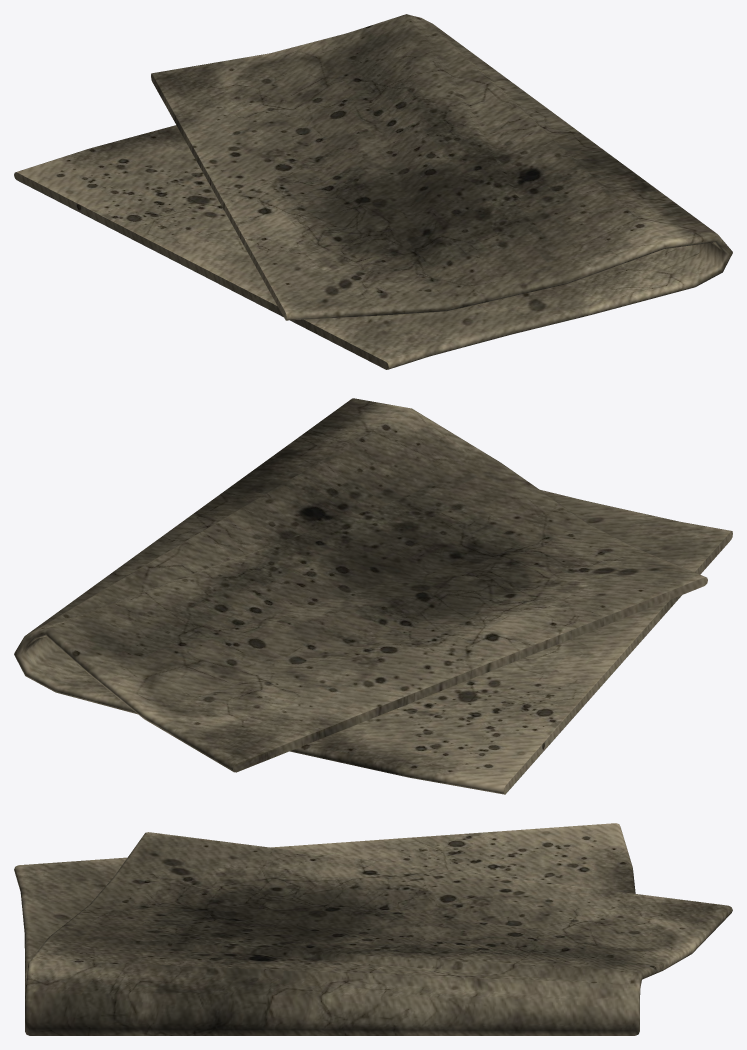
Rendered from FoldRag.fbx.
3 views of the same model, one above another, from view 1: azimuth 30°, elevation 25°; view 2: azimuth 150°, elevation 25°; view 3: azimuth 270°, elevation 25° (orthographic). The views are drawn at different scales.
Parts seen in each view (by area): view 1: FoldRag; view 2: FoldRag; view 3: FoldRag.
Part boxes in pixels (x1,y1,x2,y2): FoldRag: (14, 14, 732, 369); FoldRag: (14, 398, 732, 794); FoldRag: (14, 823, 732, 1035).
Bounding box in the file's own units: 1.11 × 0.1471 × 1.52.
1 material, 1 textured.
